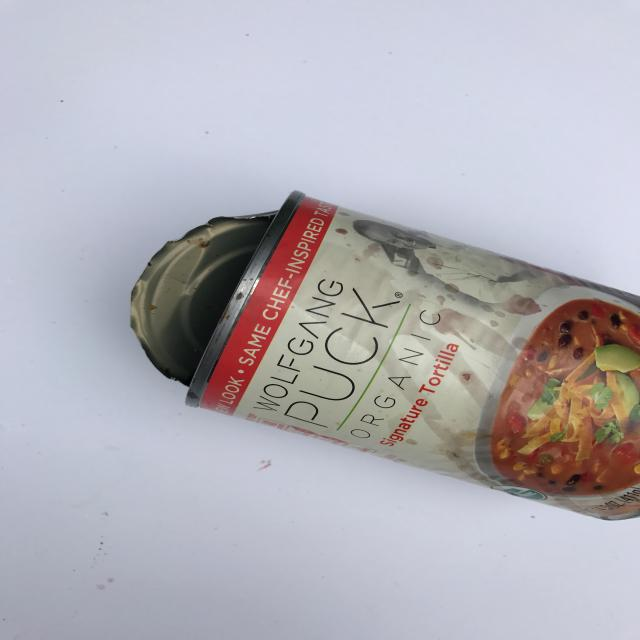metal: (129, 190, 639, 521)
